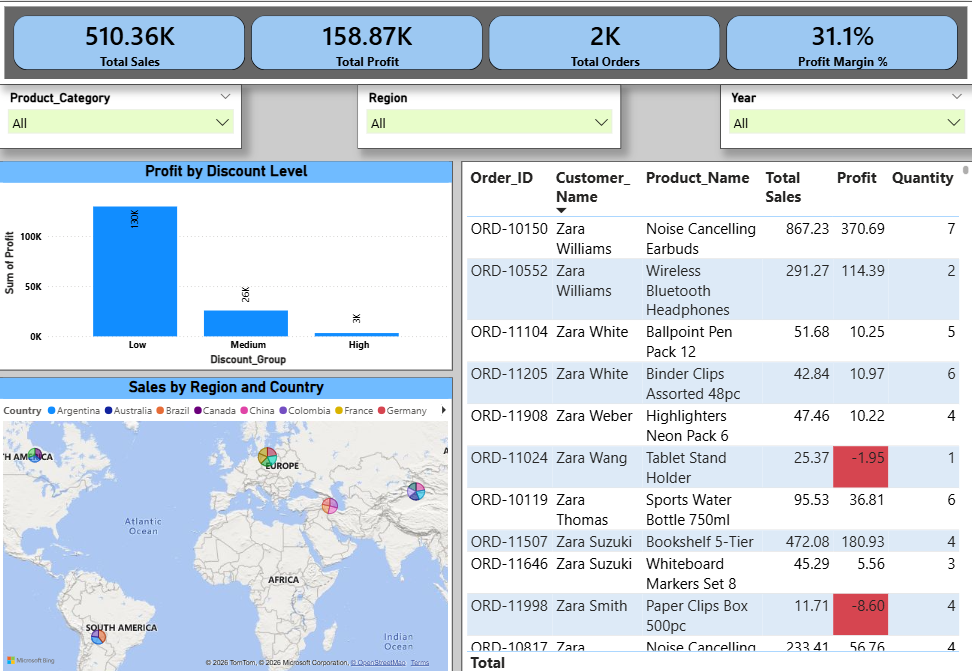

What the dashboard file says about the page in this screenshot:
{"tool":"powerbi","page":{"name":"Page 2","canvas":[1300,900],"ordinal":1},"visuals":[{"type":"map","title":"Sales by Region and Country","fields":{"Size":["Avg(global_ecommerce_sales.Total_Selling_Amount)"],"Category":["global_ecommerce_sales.Region"],"Series":["global_ecommerce_sales.Country"]},"box":[0,512.7,604.7,387.6],"z":0},{"type":"slicer","fields":{"Values":["global_ecommerce_sales.Product_Category"]},"box":[0,111.6,324.2,86],"z":1000},{"type":"slicer","fields":{"Values":["global_ecommerce_sales.Region"]},"box":[478.1,111.6,351.4,86],"z":2000},{"type":"slicer","fields":{"Values":["global_ecommerce_sales.Order_Date.Variation.Date Hierarchy.Year"]},"box":[962.1,111.6,337.8,86],"z":3000},{"type":"cardVisual","fields":{"Data":["Sum(global_ecommerce_sales.Total_Selling_Amount)","Sum(global_ecommerce_sales.Profit)","Count(global_ecommerce_sales.Order_ID)","global_ecommerce_sales.Profit Margine %"]},"box":[0,0,1299.9,111.6],"z":4000},{"type":"tableEx","fields":{"Values":["global_ecommerce_sales.Customer_Name","global_ecommerce_sales.Order_ID","global_ecommerce_sales.Product_Name","Sum(global_ecommerce_sales.Total_Amount)","Sum(global_ecommerce_sales.Profit)"]},"box":[616.8,212.6,683.1,687.7],"z":5000},{"type":"scatterChart","title":"Impact of Discount on Profit","fields":{"X":["Sum(global_ecommerce_sales.Discount_Percent)"],"Y":["Sum(global_ecommerce_sales.Profit/Loss)"],"Size":["Sum(global_ecommerce_sales.Total_Amount)"],"Series":["global_ecommerce_sales.Product_Category"]},"box":[0,212.6,604.7,291.1],"z":6000}]}

Visuals, with their boxes in screenshot pixels (x1, y1, x2, y2), scaled from the page's 1300x900 canvas onto the 972x671 screenshot:
"Sales by Region and Country" map: 0:382:452:670
slicer - global_ecommerce_sales.Product_Category: 0:83:242:147
slicer - global_ecommerce_sales.Region: 357:83:620:147
slicer - global_ecommerce_sales.Order_Date.Variation.Date Hierarchy.Year: 719:83:971:147
cardVisual - Sum(global_ecommerce_sales.Total_Selling_Amount) x Sum(global_ecommerce_sales.Profit): 0:0:971:83
tableEx - global_ecommerce_sales.Customer_Name x global_ecommerce_sales.Order_ID: 461:159:971:670
"Impact of Discount on Profit" scatterChart: 0:159:452:376
